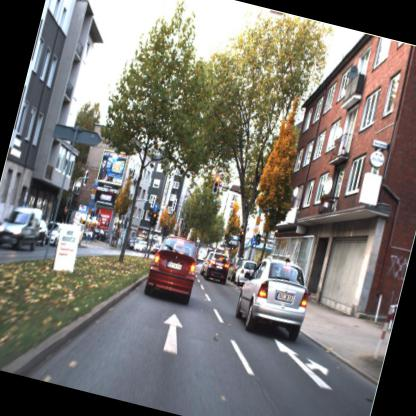mandatory: (150, 201, 162, 217), (248, 235, 259, 250)
other: (250, 221, 262, 237)
